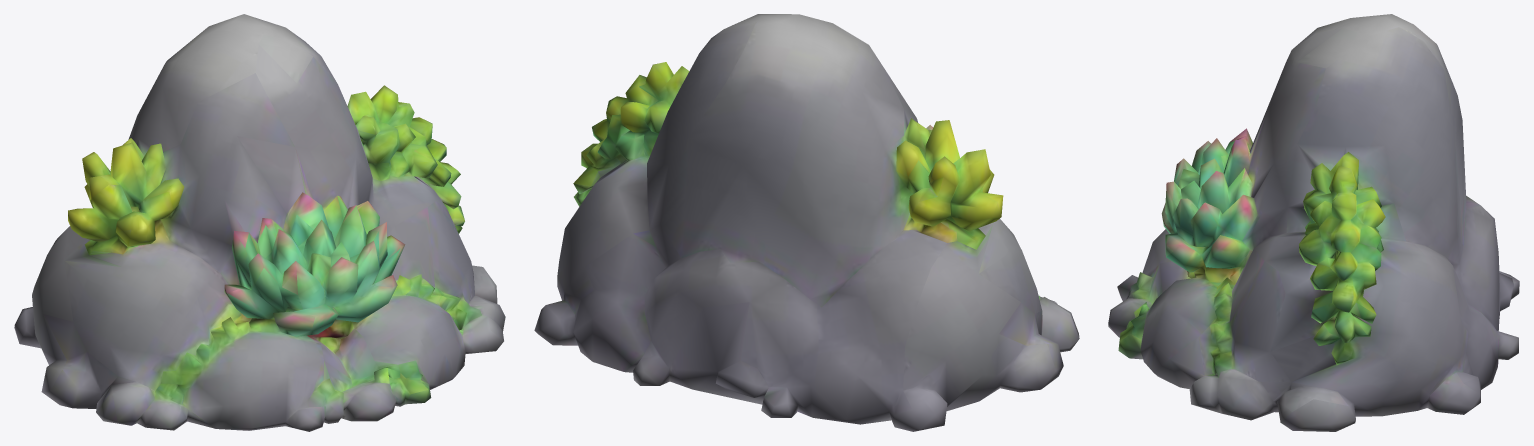
Rendered from rockgarden.glb.
3 renders of one model, left to right at view 1: azimuth 30°, elevation 25°; view 2: azimuth 150°, elevation 25°; view 3: azimuth 270°, elevation 25°, orthographic. The views are drawn at different scales.
Parts seen in each view (by area): view 1: model; view 2: model; view 3: model.
Boxes of the visible parts, left/top/right/bottom form: model: left=14, top=14, right=505, bottom=431; model: left=534, top=14, right=1079, bottom=431; model: left=1108, top=14, right=1519, bottom=431.
Bounding box in the file's own units: 1.9 × 1.25 × 1.52.
Materials: 1 (1 with a texture image).
